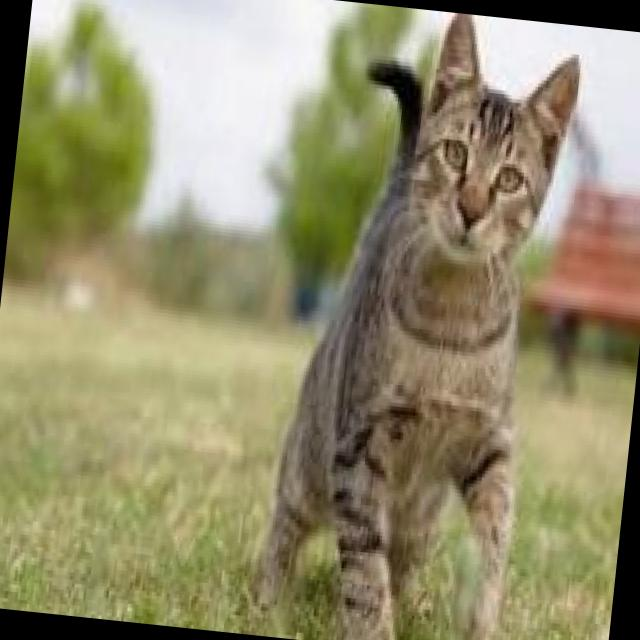Gato: (253, 0, 594, 640)
